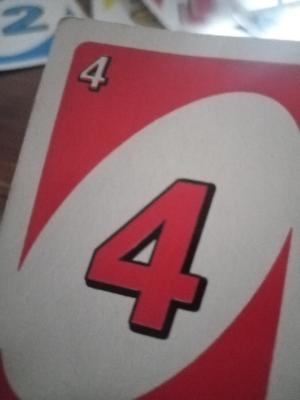num_4: (73, 48, 118, 96)
